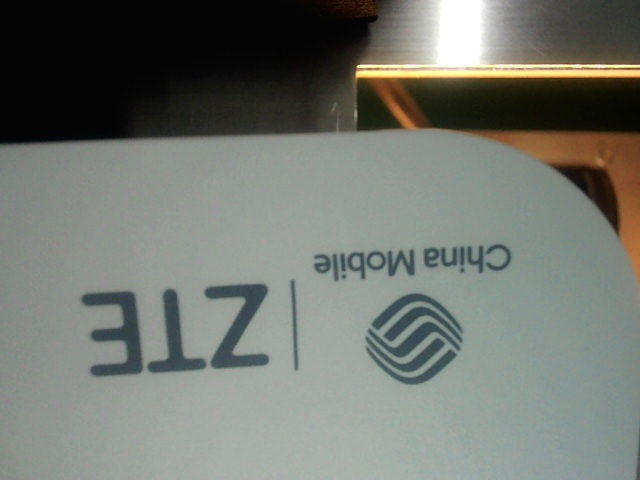AL_ZTEChinaMobile: (73, 243, 528, 386)
